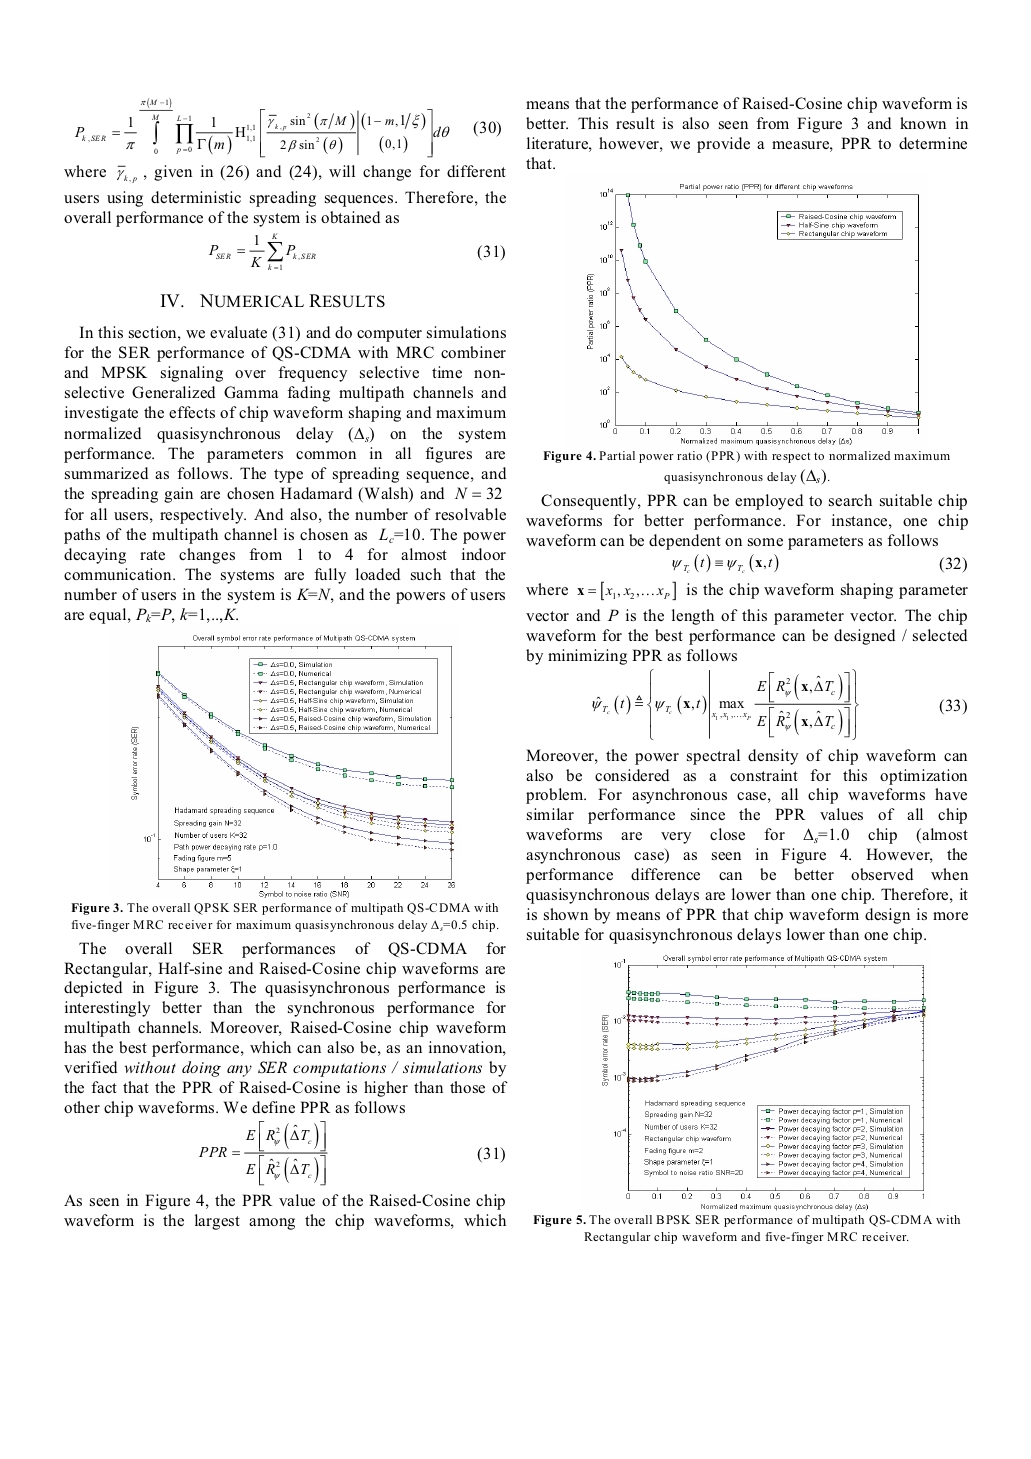figure: (587, 182, 921, 434), (131, 645, 454, 898), (603, 954, 925, 1199)
formula: (592, 668, 966, 741), (74, 97, 500, 158), (197, 1120, 504, 1186), (208, 232, 504, 270), (672, 553, 966, 573)
